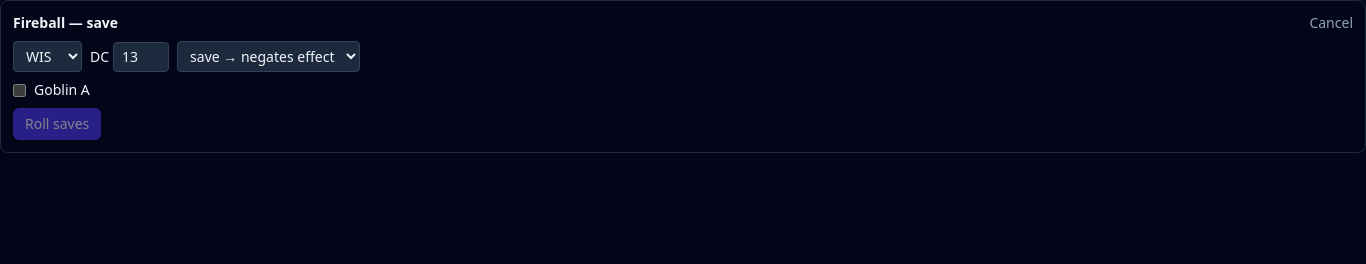
Test: GroupSaveForm › seeds ability, DC, on-save rule, and damage from the cast
Expected: the heading "Fireball — save" is shown, left=13, top=13, right=118, bottom=33
Expected: the dropdown named "Save ability" shows "WIS", left=13, top=41, right=82, bottom=72
The pre-rolled spell damage carries into the damage step.
Click the checkbox named "Select Goblin A". click: (20,90)
box: left=13, top=84, right=26, bottom=96
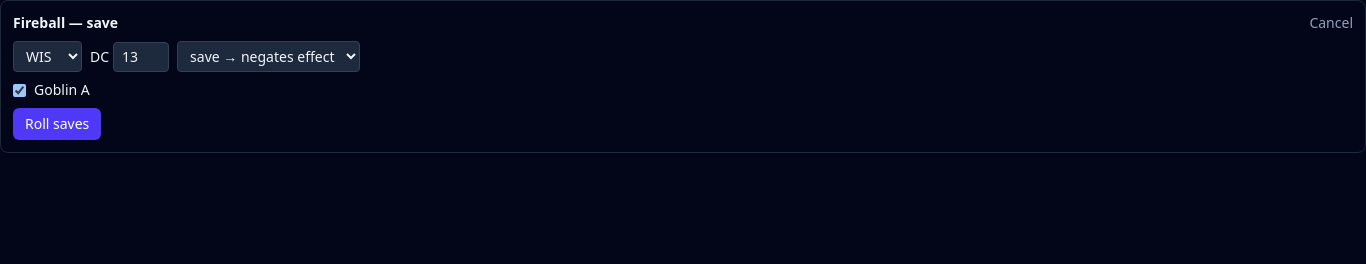
Click the button "Roll saves". click: (57,124)
box: left=13, top=108, right=101, bottom=140
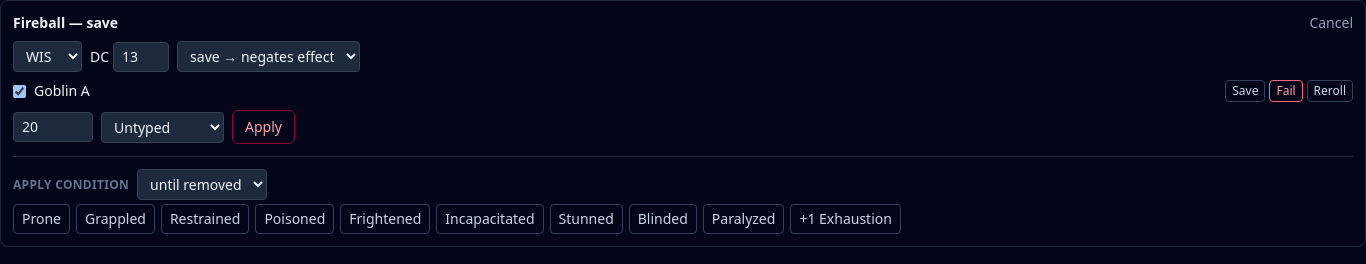
Expected: the field named "Damage" holds "20", left=13, top=112, right=93, bottom=142
